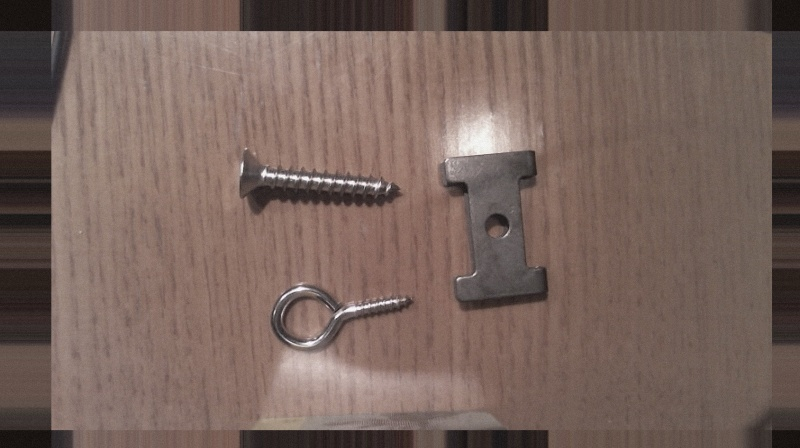O001: (268, 277, 420, 355)
O002: (444, 145, 553, 308)
S001: (235, 144, 405, 206)
